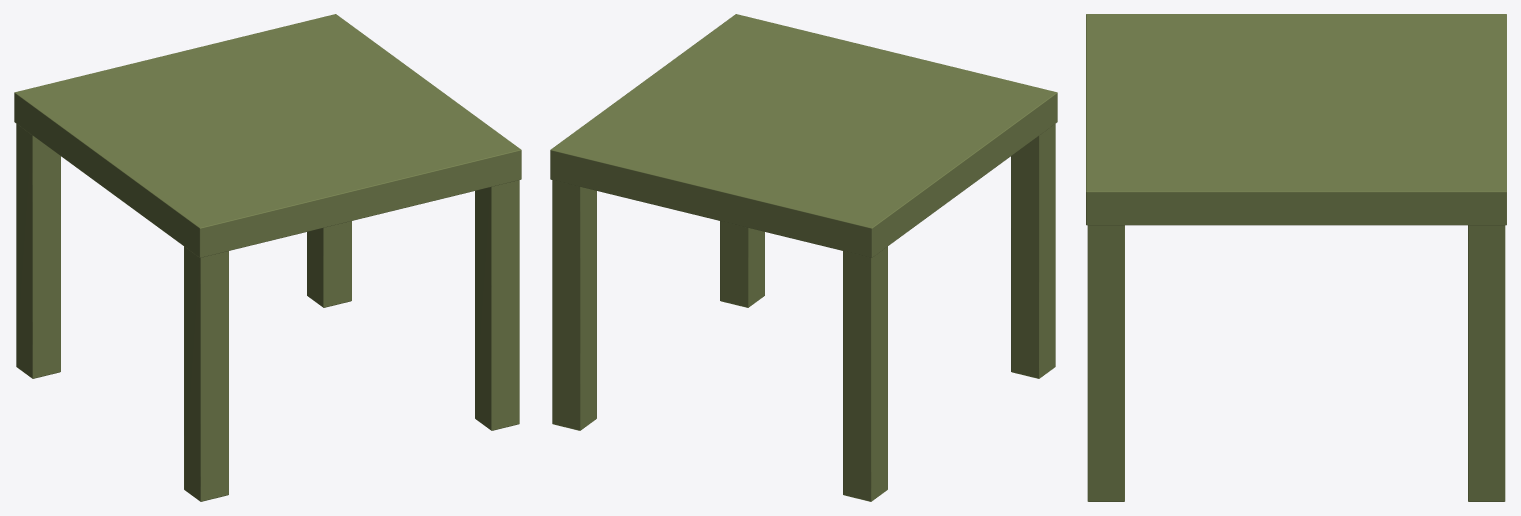
File: LACK_cozy.glb
3 renders of one model, left to right at view 1: azimuth 30°, elevation 25°; view 2: azimuth 150°, elevation 25°; view 3: azimuth 270°, elevation 25°, orthographic. The views are drawn at different scales.
Visible parts, largest first — view 1: whole_tableTop, whole_leg_3_screw115980_3, whole_leg_2_screw115980_2, whole_leg_4_screw115980_4, whole_leg_1_screw115980_1; view 2: whole_tableTop, whole_leg_4_screw115980_4, whole_leg_1_screw115980_1, whole_leg_3_screw115980_3, whole_leg_2_screw115980_2; view 3: whole_tableTop, whole_leg_1_screw115980_1, whole_leg_2_screw115980_2.
Part boxes in pixels (x1,y1,x2,y2): whole_tableTop: (14, 14, 521, 257); whole_leg_3_screw115980_3: (184, 246, 228, 501); whole_leg_2_screw115980_2: (475, 180, 519, 430); whole_leg_4_screw115980_4: (16, 124, 60, 378); whole_leg_1_screw115980_1: (307, 221, 351, 307); whole_tableTop: (550, 14, 1057, 257); whole_leg_4_screw115980_4: (843, 246, 887, 501); whole_leg_1_screw115980_1: (552, 180, 596, 430); whole_leg_3_screw115980_3: (1011, 124, 1055, 378); whole_leg_2_screw115980_2: (720, 221, 764, 307); whole_tableTop: (1086, 14, 1506, 225); whole_leg_1_screw115980_1: (1468, 225, 1505, 501); whole_leg_2_screw115980_2: (1087, 225, 1124, 501).
Size of what is drawn, in the model's own units: 0.55 by 0.449 by 0.55.
